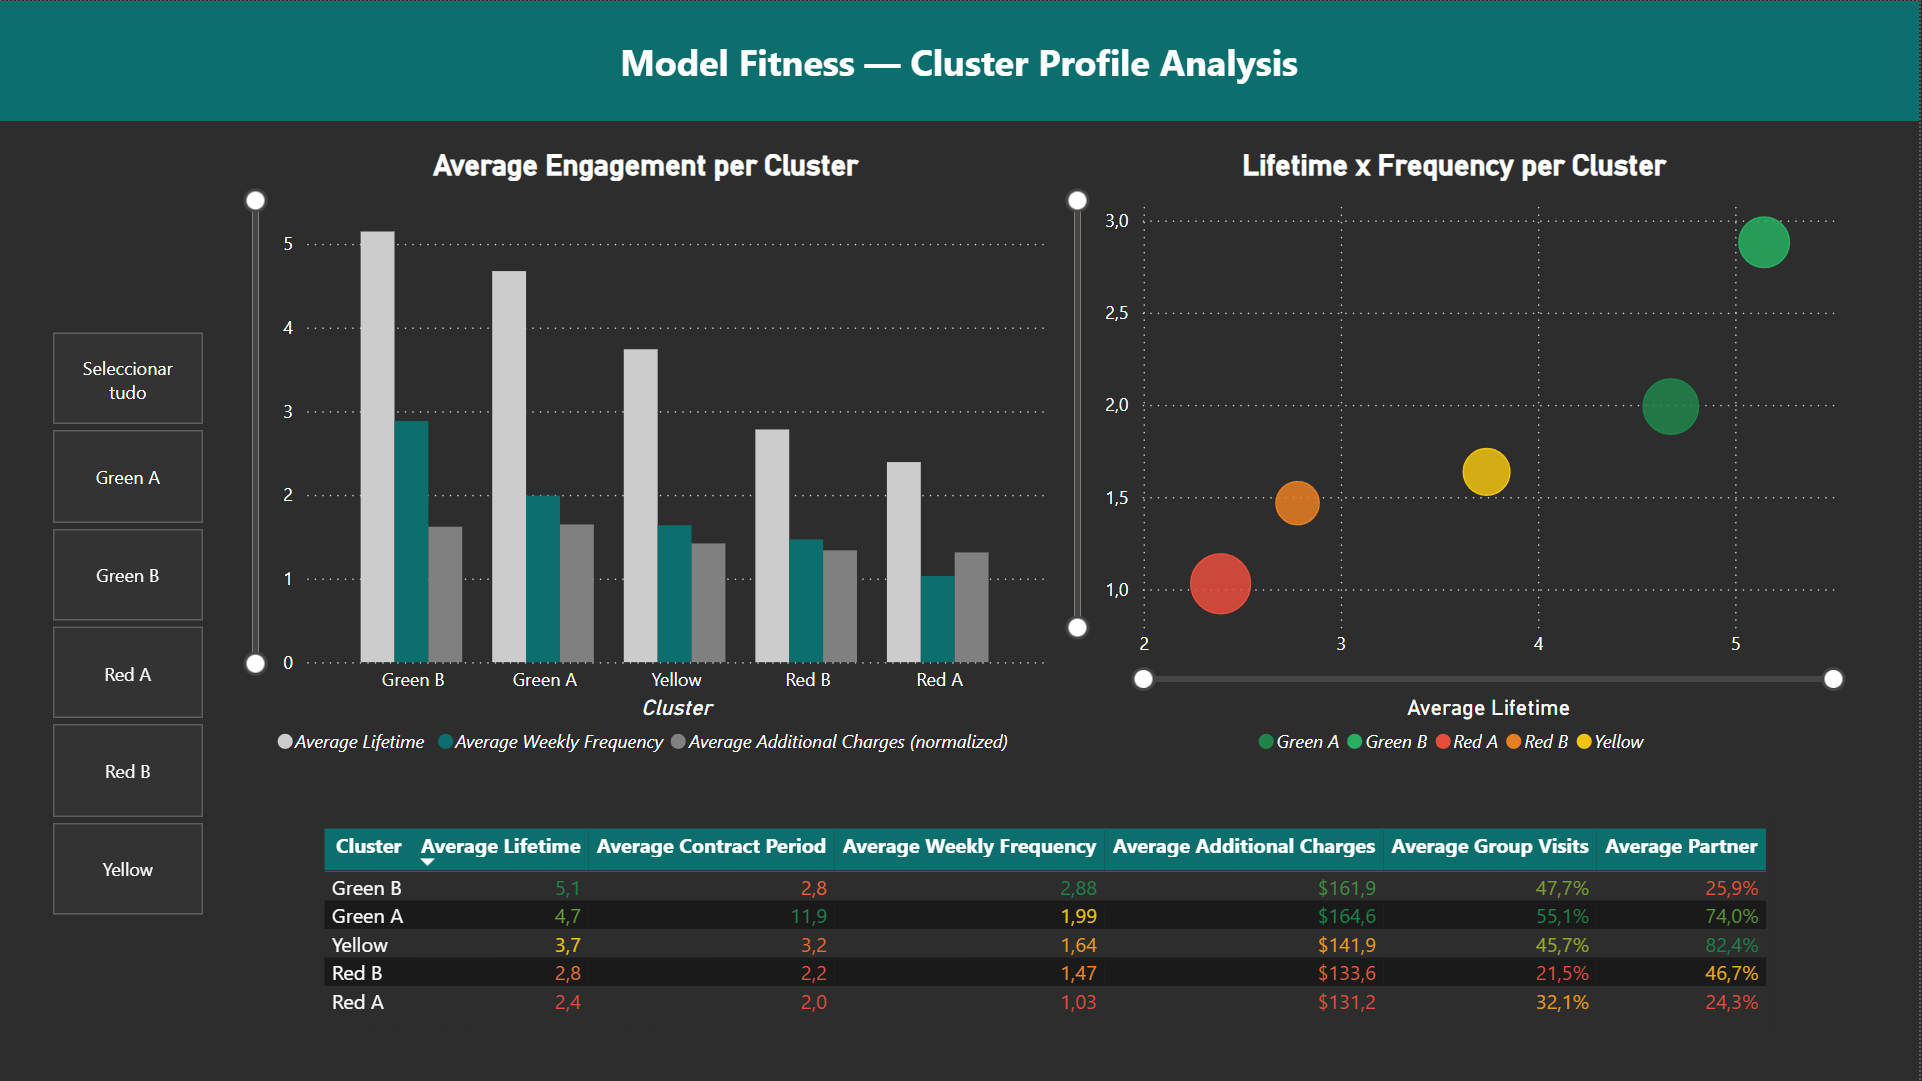

What the dashboard file says about the page in this screenshot:
{"tool":"powerbi","page":{"name":"Clusters Profile","canvas":[1280,720],"ordinal":1},"visuals":[{"type":"shape","box":[0,0,1280,80],"z":0},{"type":"clusteredColumnChart","title":"Average Engagement per Cluster","fields":{"Category":["gym_churn.cluster_label"],"Y":["Avg(gym_churn.lifetime)","Avg(gym_churn.avg_class_frequency_current_month)","gym_churn.avg_additional_charges"]},"box":[160.1,98.1,542.2,413.8],"z":1000},{"type":"pivotTable","fields":{"Rows":["gym_churn.cluster_label"],"Values":["Avg(gym_churn.lifetime)","Avg(gym_churn.contract_period)","Avg(gym_churn.avg_class_frequency_current_month)","Avg(gym_churn.avg_additional_charges_total)","Avg(gym_churn.group_visits)","Avg(gym_churn.partner)"]},"box":[211.7,546.7,971.5,138.8],"z":2000},{"type":"scatterChart","title":"Lifetime x Frequency per Cluster","fields":{"Series":["gym_churn.cluster_label"],"X":["Avg(gym_churn.lifetime)"],"Y":["Avg(gym_churn.avg_class_frequency_current_month)"],"Size":["gym_churn.total_costumers"]},"box":[708.1,98.1,524.1,413.8],"z":3000},{"type":"slicer","fields":{"Values":["gym_churn.cluster_label"]},"box":[10.3,214.3,149.8,402.1],"z":4000}]}

Visuals, with their boxes in screenshot pixels (x1, y1, x2, y2), scaled from the page's 1280x720 canvas onto the 1922x1081 screenshot:
shape: pyautogui.locateOnScreen(0, 0, 1921, 120)
"Average Engagement per Cluster" clusteredColumnChart: pyautogui.locateOnScreen(240, 147, 1055, 769)
pivotTable - gym_churn.cluster_label x Avg(gym_churn.lifetime): pyautogui.locateOnScreen(318, 821, 1777, 1029)
"Lifetime x Frequency per Cluster" scatterChart: pyautogui.locateOnScreen(1063, 147, 1850, 769)
slicer - gym_churn.cluster_label: pyautogui.locateOnScreen(15, 322, 240, 925)
